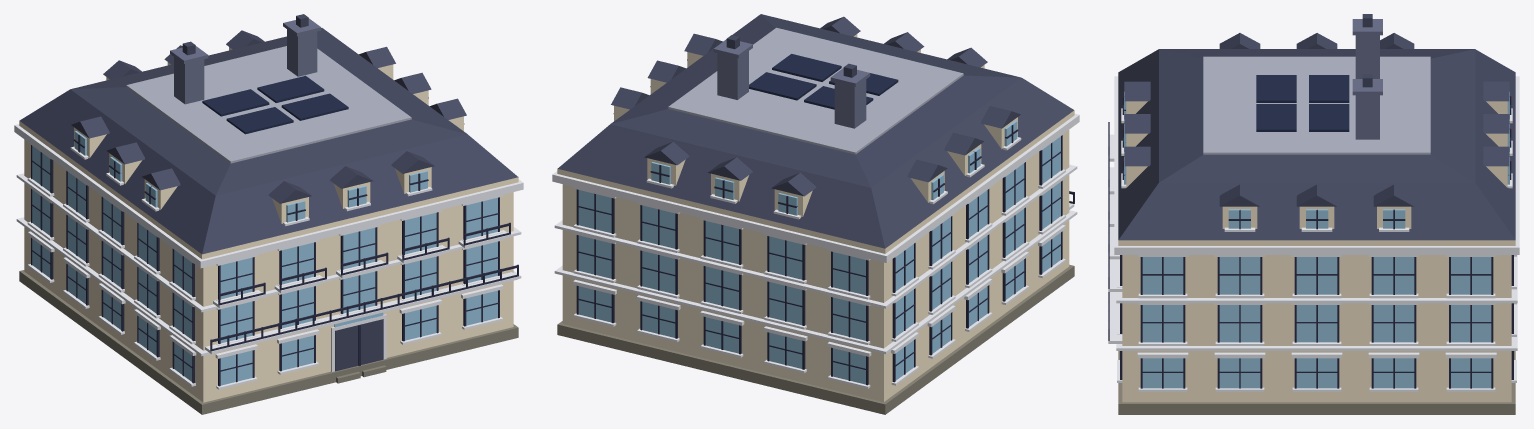
File: house-2x2-3f-haussmann-a-solar.glb
3 views of the same model, side by side, from view 1: azimuth 30°, elevation 25°; view 2: azimuth 150°, elevation 25°; view 3: azimuth 270°, elevation 25° (orthographic). The views are drawn at different scales.
Visible parts, largest first — view 1: house-2x2-3f-haussmann-a-solar; view 2: house-2x2-3f-haussmann-a-solar; view 3: house-2x2-3f-haussmann-a-solar.
Part boxes in pixels (<box>): house-2x2-3f-haussmann-a-solar: <box>14,14,523,414</box>; house-2x2-3f-haussmann-a-solar: <box>552,14,1079,414</box>; house-2x2-3f-haussmann-a-solar: <box>1108,14,1519,414</box>.
Bounding box in the file's own units: 2 × 1.55 × 2.03.
1 material, 1 textured.
